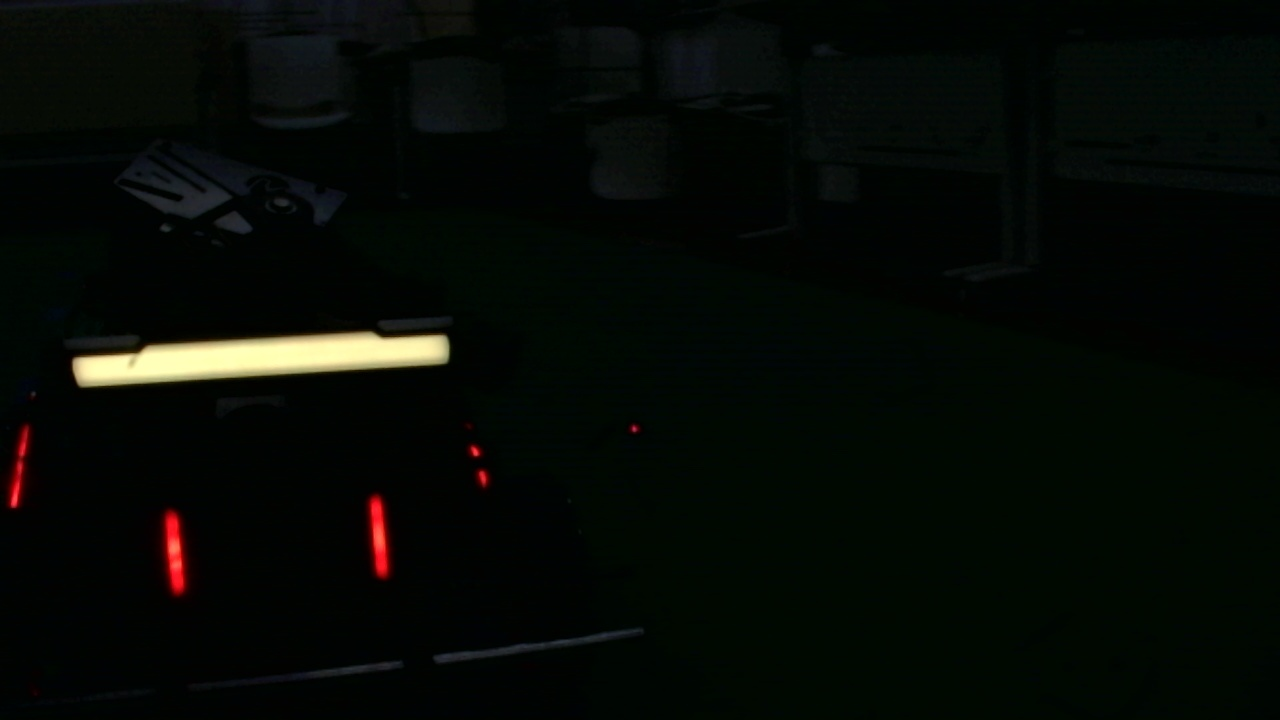lamp: (160, 508, 189, 595), (368, 490, 390, 577), (10, 424, 25, 510)
pair1: (165, 495, 391, 593)
